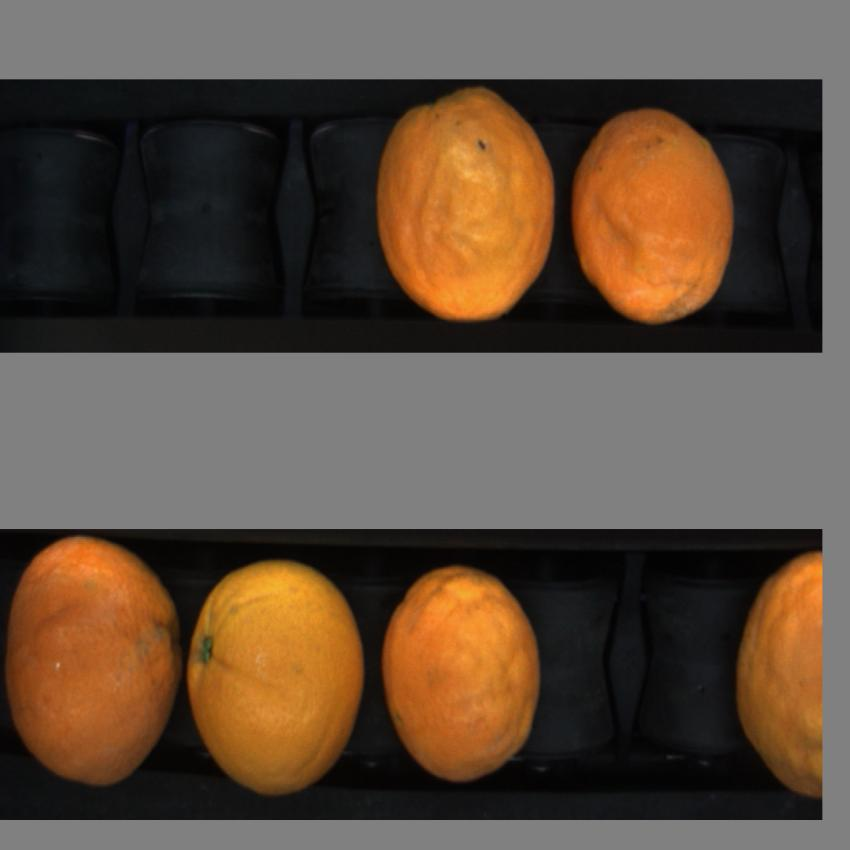Buen estado: (187, 547, 364, 802)
Mal estado: (5, 537, 184, 796), (374, 83, 560, 324), (568, 99, 738, 329), (383, 562, 545, 795), (736, 546, 823, 804)
